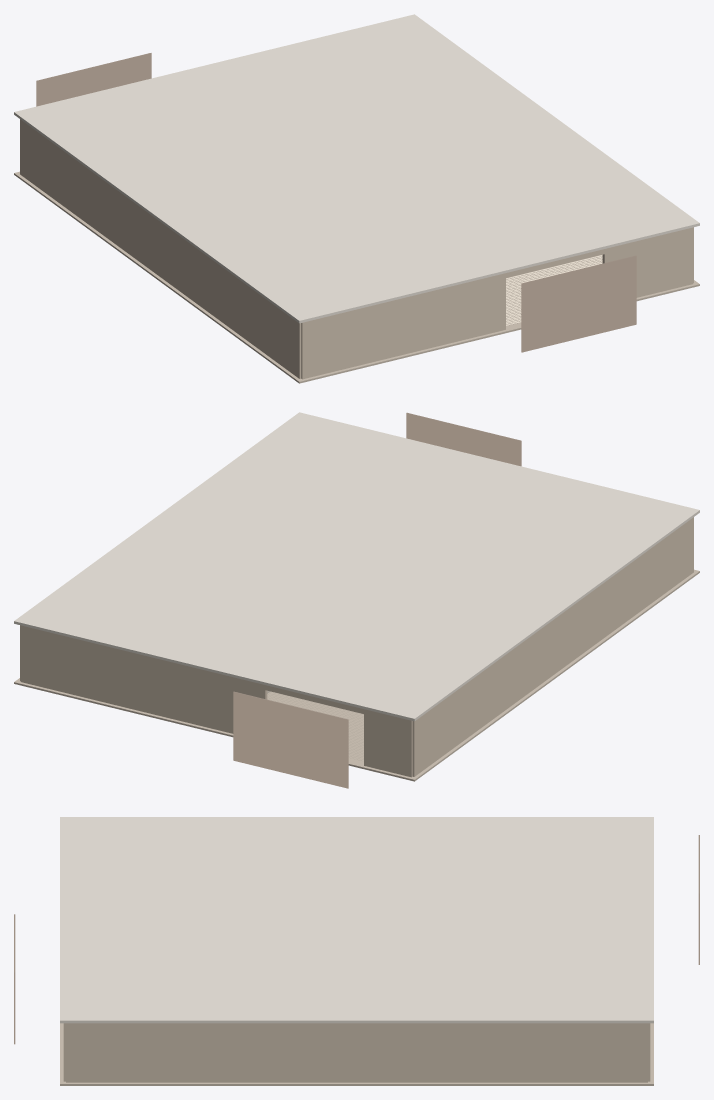
3 views of the same model, one above another, from view 1: azimuth 30°, elevation 25°; view 2: azimuth 150°, elevation 25°; view 3: azimuth 270°, elevation 25° (orthographic). The views are drawn at different scales.
Visible parts, largest first — view 1: plafon, dinding.004, dinding, kotak cahaya, lantai, dinding.001, kotak cahaya.001, ambang jendela bawah; view 2: plafon, dinding.004, dinding.003, kotak cahaya.001, lantai, kotak cahaya, dinding.002; view 3: plafon, dinding.005, lantai.
Boxes of the visible parts, x1,y1,x2,y2 form: plafon: (14,14,699,323); dinding.004: (20,119,301,378); dinding: (301,273,505,379); kotak cahaya: (521,255,636,352); lantai: (14,171,699,383); dinding.001: (602,227,693,297); kotak cahaya.001: (36,53,151,106); ambang jendela bawah: (506,249,604,277); plafon: (14,412,699,721); dinding.004: (412,517,693,776); dinding.003: (20,625,267,733); kotak cahaya.001: (233,691,348,788); lantai: (14,569,699,781); kotak cahaya: (406,412,521,466); dinding.002: (364,709,412,777); plafon: (60,817,653,1023); dinding.005: (66,1023,647,1082); lantai: (60,1023,653,1085).
Size of the model in its own units: 24.4 by 4 by 34.76.
